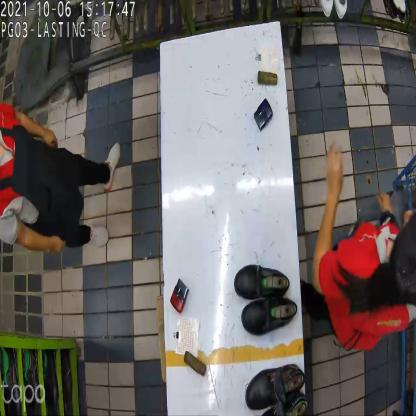shoes: (233, 260, 297, 334), (243, 364, 308, 416)
stamp: (254, 97, 275, 131), (170, 281, 191, 314)
